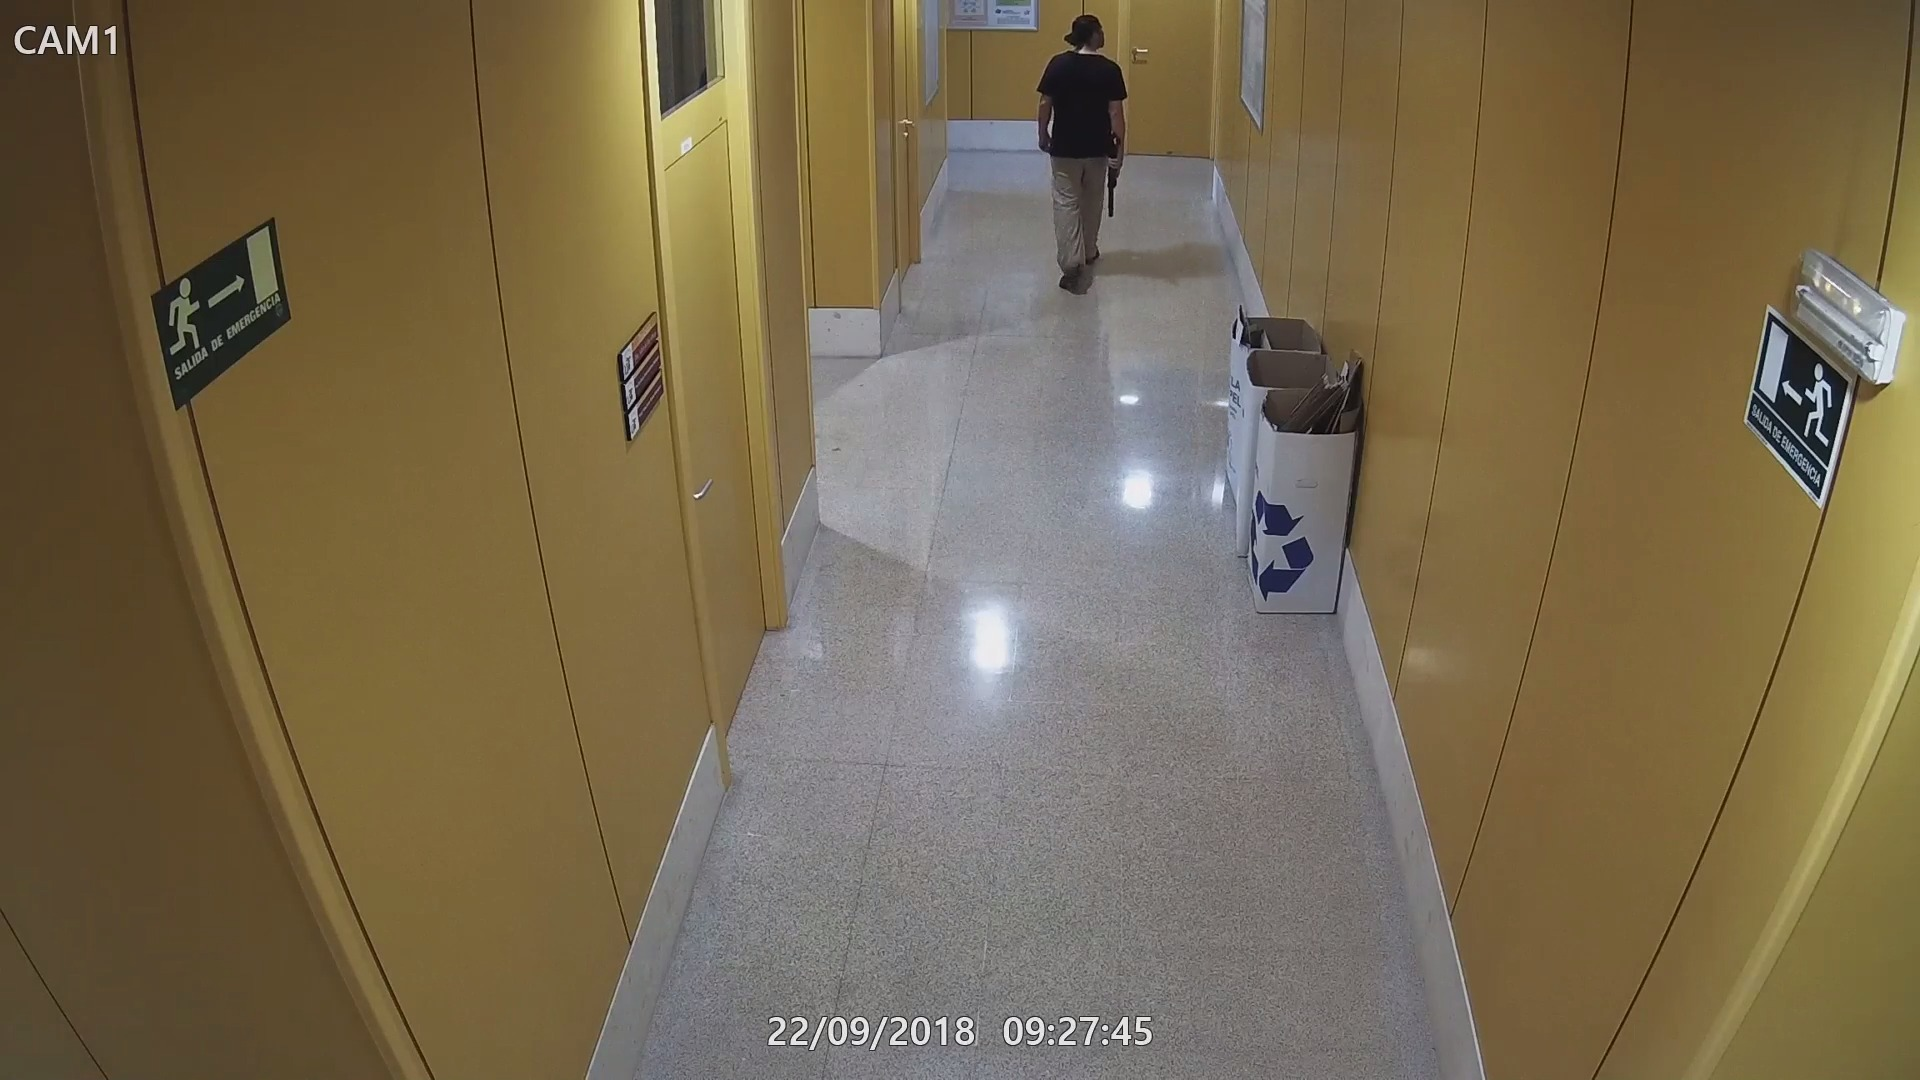Short_rifle: (1098, 132, 1125, 216)
